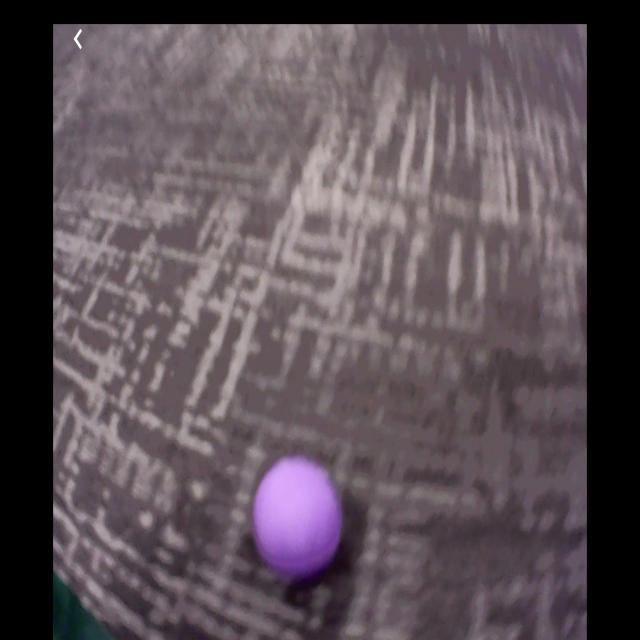ball: (253, 459, 342, 584)
